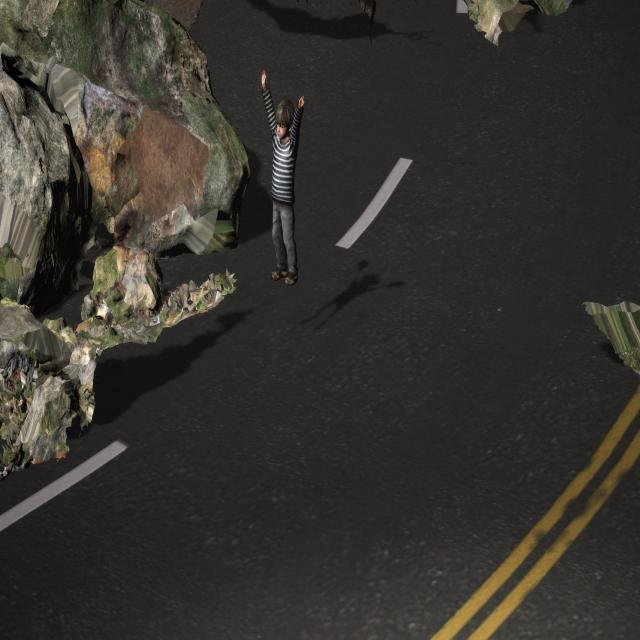Human: (259, 64, 308, 283)
